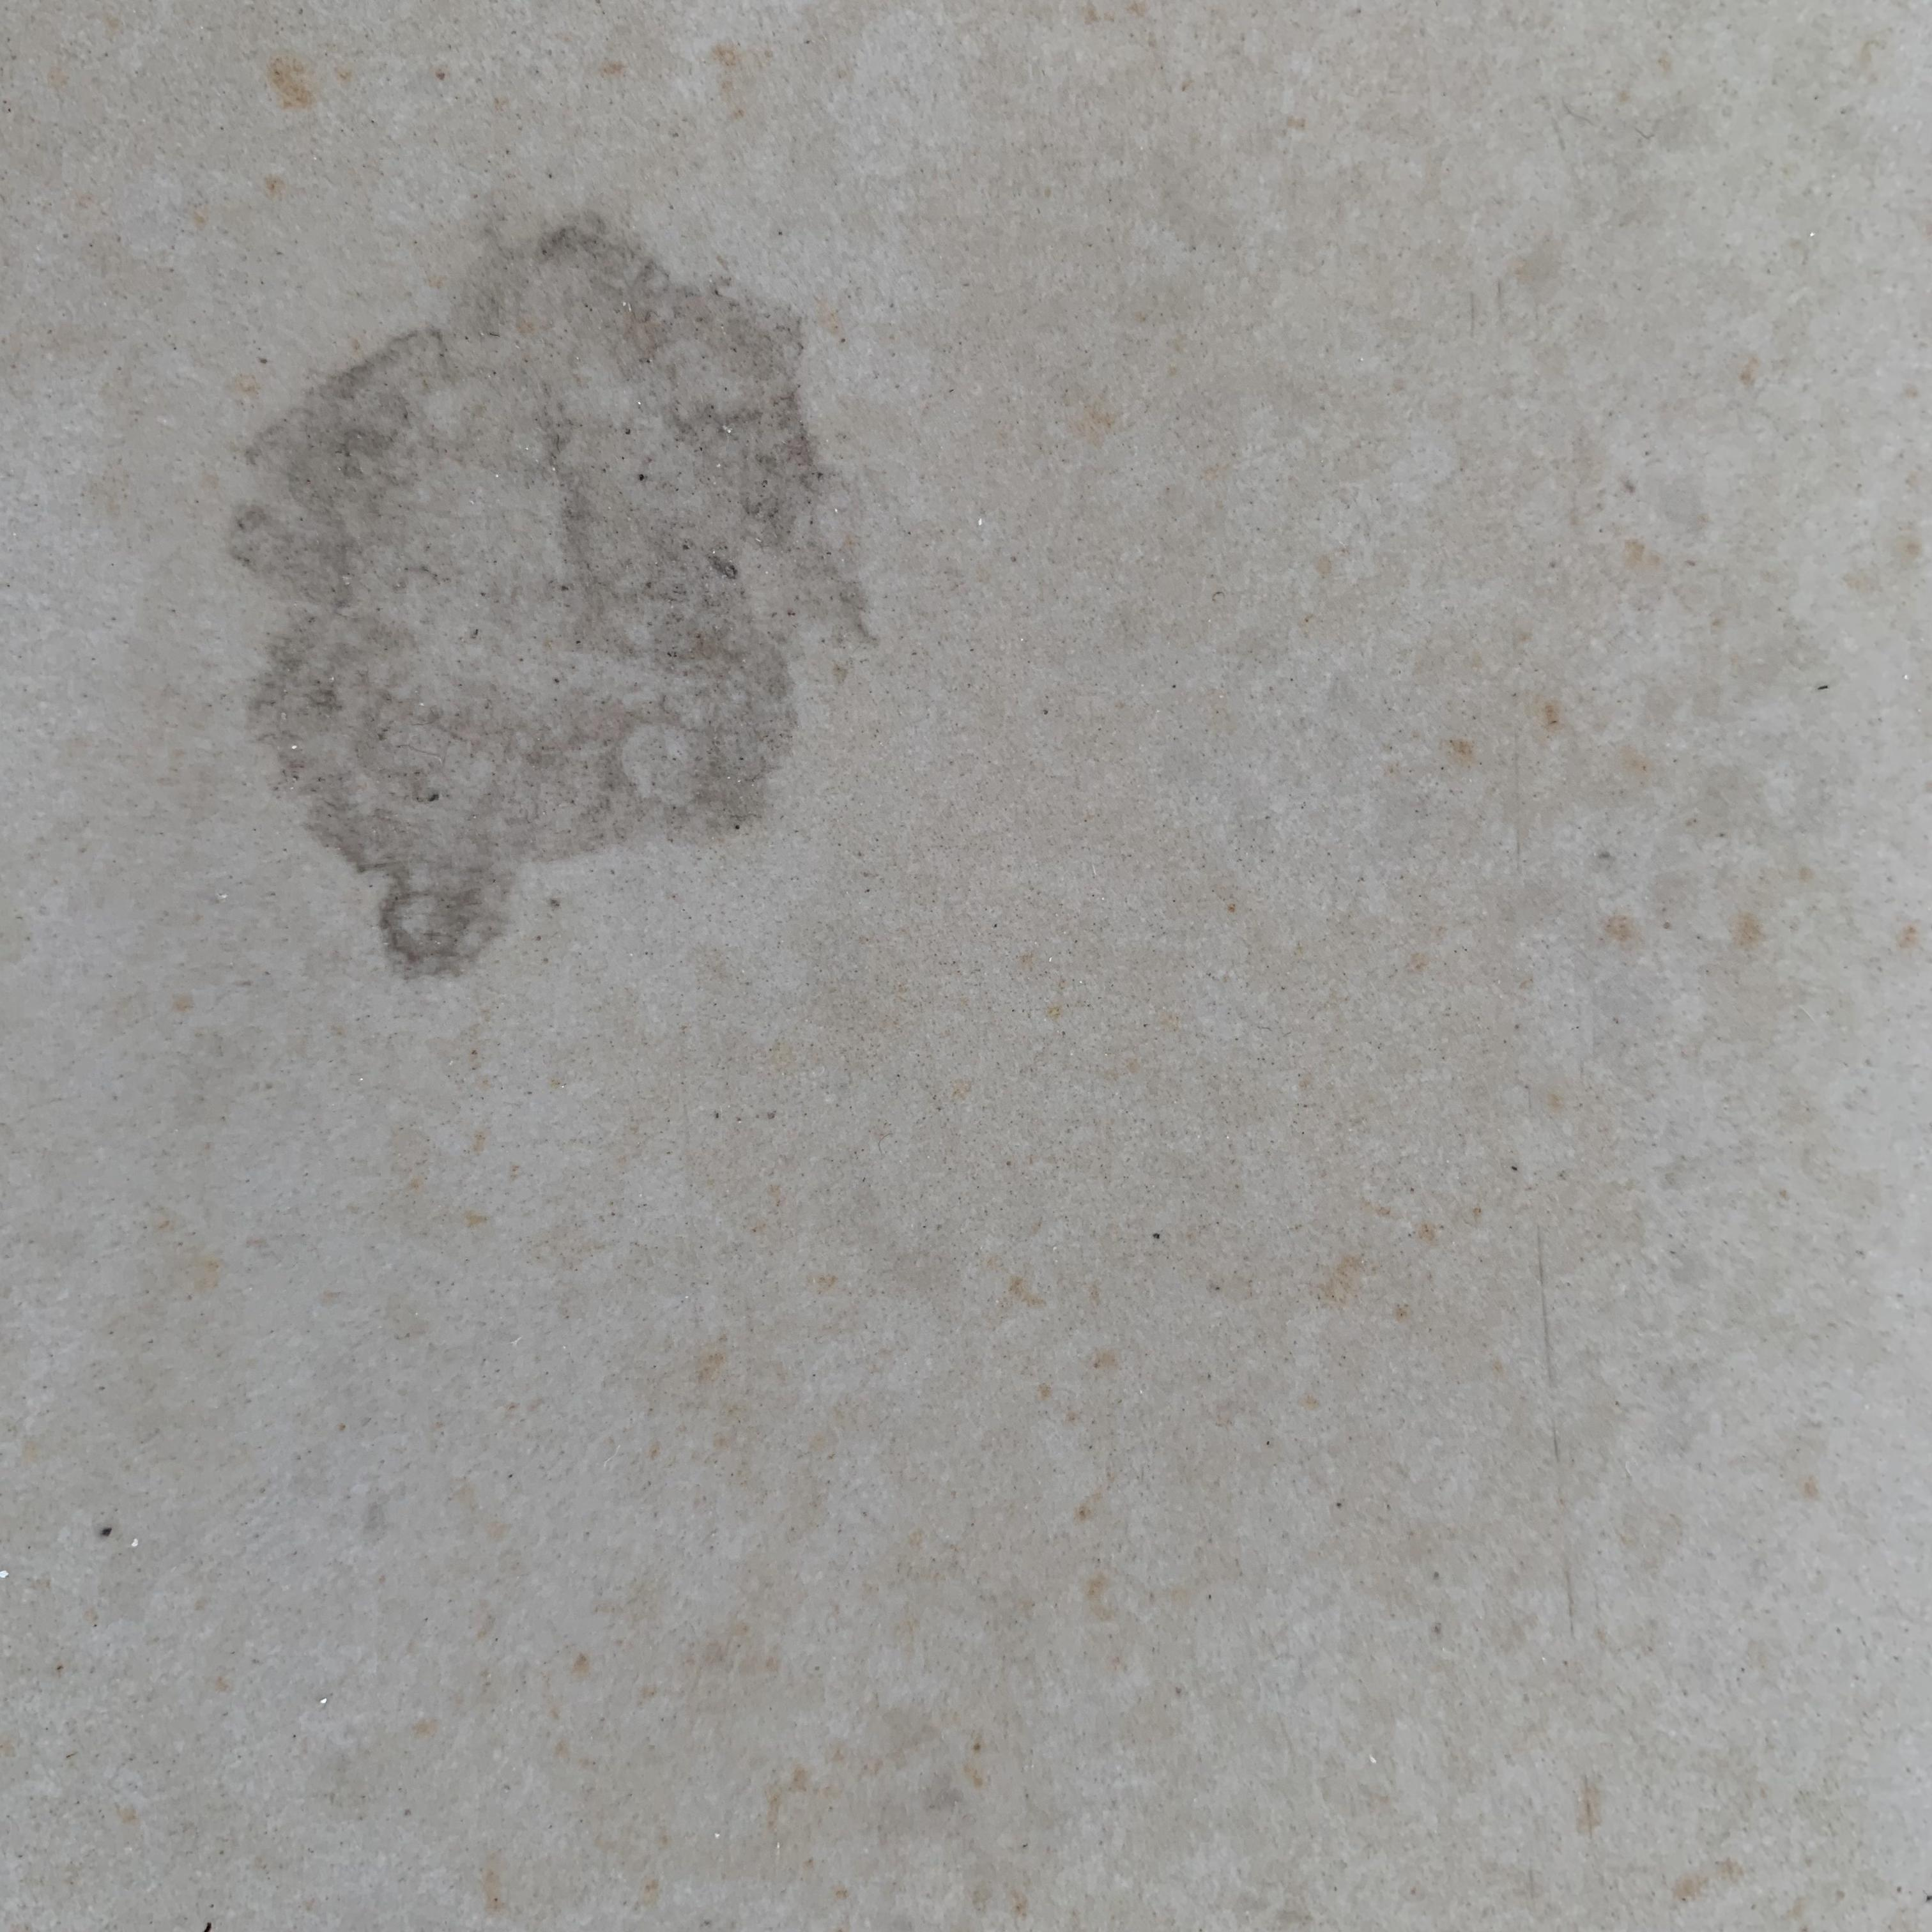grey spot: (228, 216, 881, 980)
